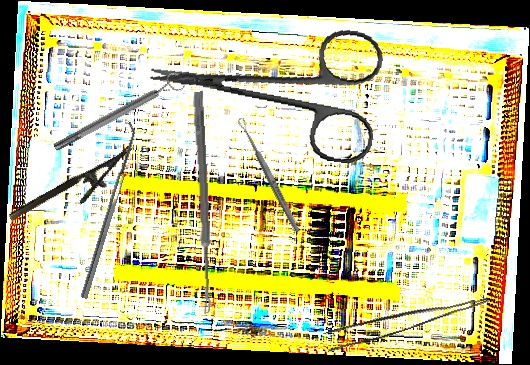Fixation Ring: (49, 69, 187, 157)
Iris Scissors: (140, 3, 388, 167)
Needle Holder: (7, 144, 145, 238)
Spatula Surgical: (73, 120, 141, 300)
Surgical Spoon: (236, 116, 302, 234), (191, 91, 215, 314)
Tissue Forceps: (322, 278, 490, 357)
